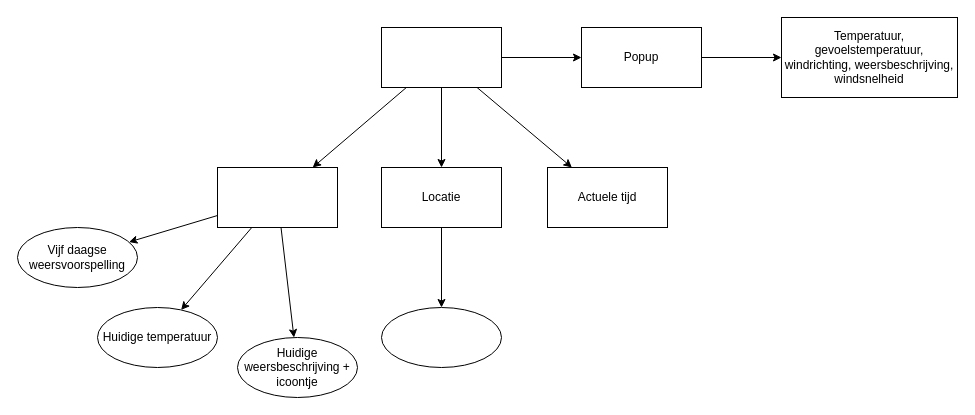
Image size: 975x415. Some labels were removed from this diagram. The shapes that lost their labels are listed below. From the top down, each one's centre as x and y in pixels, then its label:
At (441,57): "HOME".
At (277,197): "Weer".
At (441,337): "Dropdown menu".
